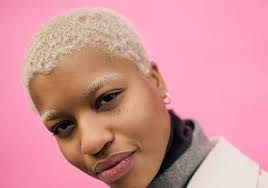s.black: (115, 106, 165, 156)
